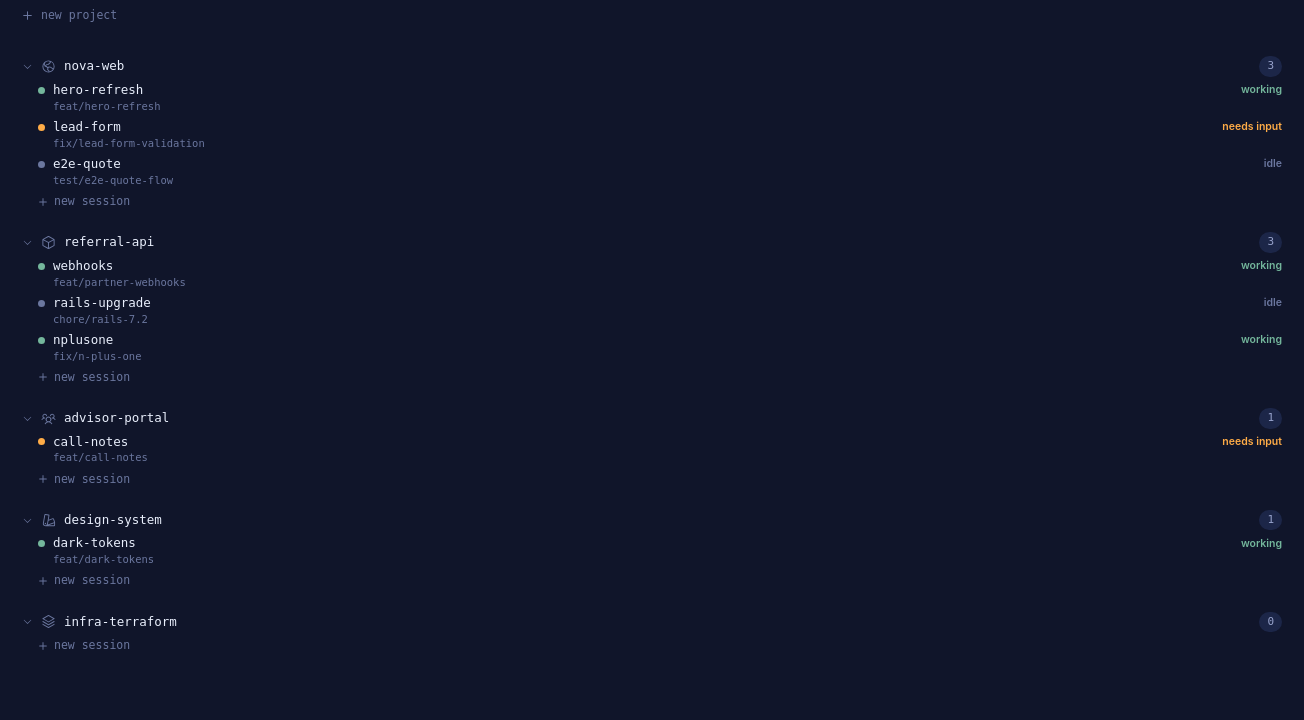
Test: ProjectsPanel › starts expanded and hides the children once collapsed
Expected: the text "hero-refresh" is shown, x1=53 y1=82 x2=143 y2=97
Click the button "nova-web 3": (94, 66) x1=12 y1=49 x2=1292 y2=79
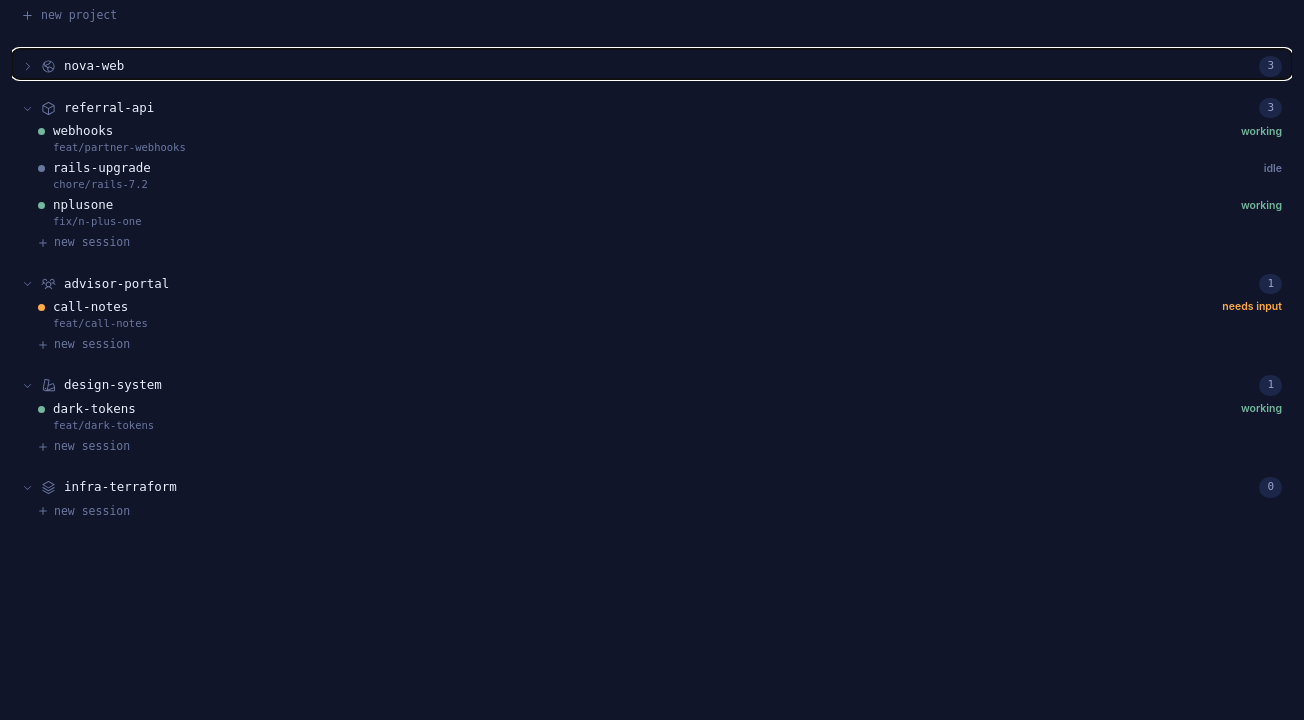
Expected: the text "webhooks" is shown, x1=53 y1=123 x2=113 y2=138
Expected: the button "hero-refresh" is gone
